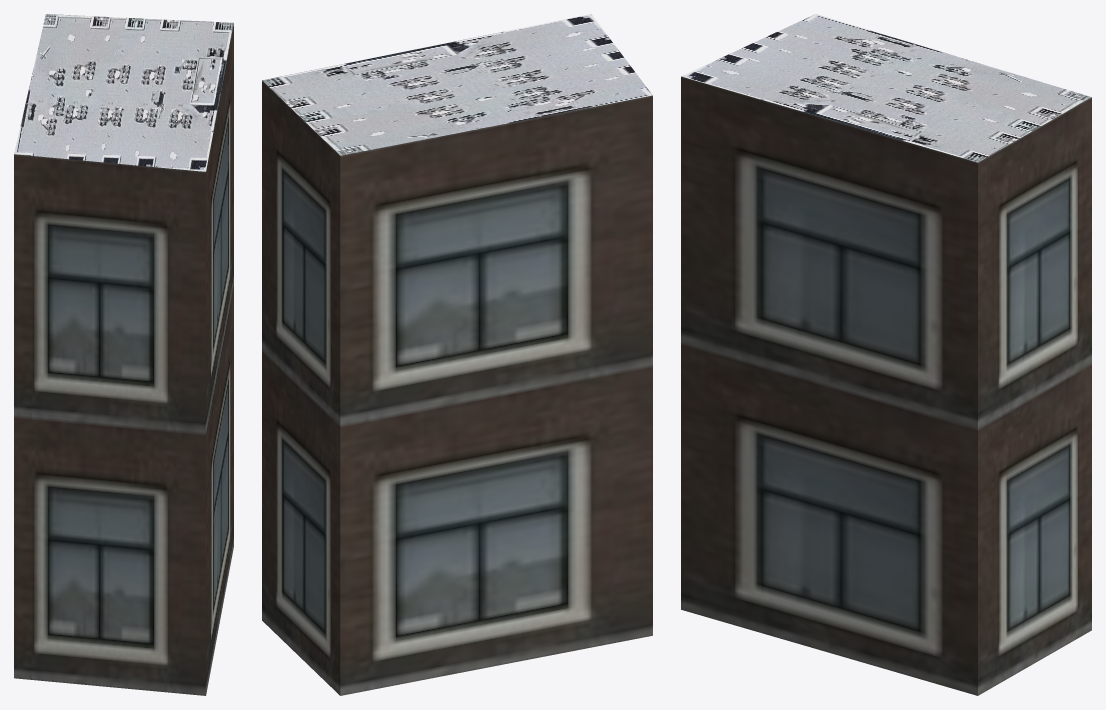
File: ResTex__2004.fbx
3 views of the same model, side by side, from view 1: azimuth 30°, elevation 25°; view 2: azimuth 150°, elevation 25°; view 3: azimuth 270°, elevation 25° (orthographic). The views are drawn at different scales.
Parts seen in each view (by area): view 1: CityEngineMaterial_16_m, CityEngineMaterial_15_m; view 2: CityEngineMaterial_16_m, CityEngineMaterial_15_m; view 3: CityEngineMaterial_16_m, CityEngineMaterial_15_m.
Part boxes in pixels (bbox=[...]): CityEngineMaterial_16_m: bbox=[14, 23, 233, 695]; CityEngineMaterial_15_m: bbox=[14, 14, 233, 171]; CityEngineMaterial_16_m: bbox=[262, 80, 652, 695]; CityEngineMaterial_15_m: bbox=[262, 14, 652, 155]; CityEngineMaterial_16_m: bbox=[681, 76, 1091, 695]; CityEngineMaterial_15_m: bbox=[681, 14, 1091, 162].
Bounding box in the file's own units: 3.59 × 6 × 4.19.
2 materials, 2 textured.
